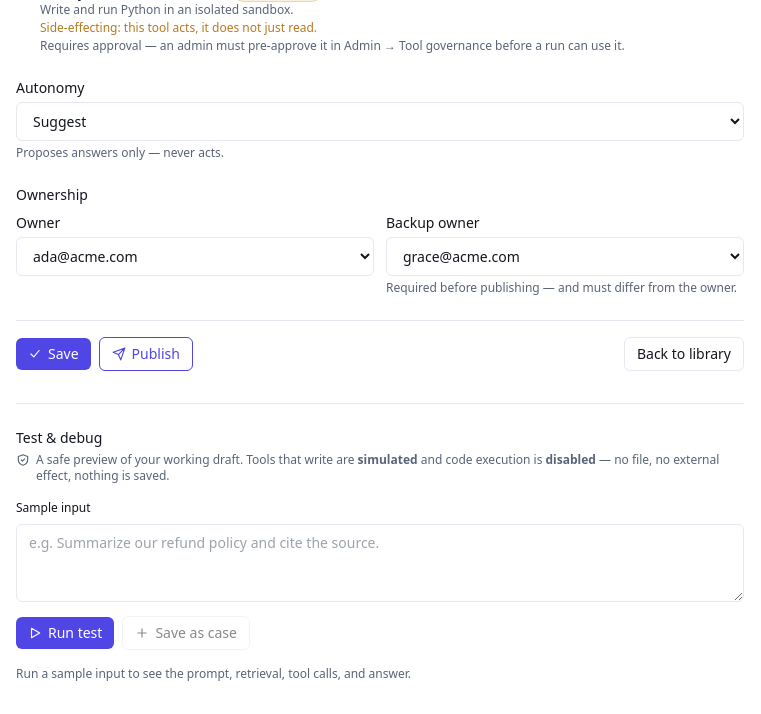
Test case: AssistantEditor — publish surfaces the new version (#214, E6-7) › shows the version history and adds the newly-frozen version after publish
(page scrolled)
Click the button "Publish". click: (146, 354)
box: 99,337 -> 193,371
(page scrolled)
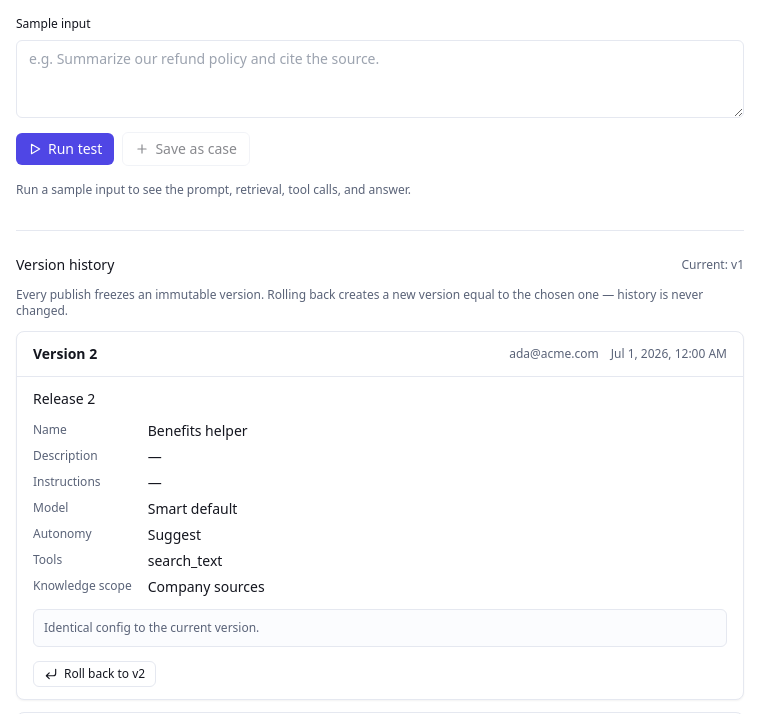
Now the heading "Version 2" is shown, box 33,344 -> 97,364
